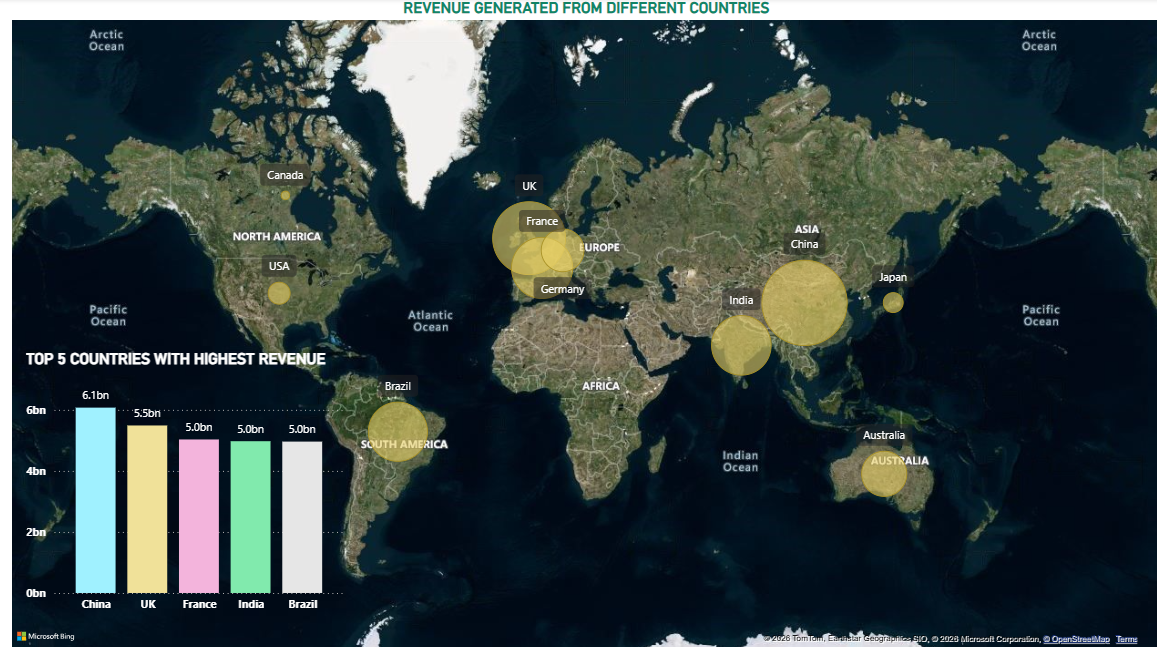

This screenshot's page, from the dashboard's own definition file:
{"tool":"powerbi","page":{"name":"Page 3","canvas":[1280,720],"ordinal":2},"visuals":[{"type":"map","title":"REVENUE GENERATED FROM DIFFERENT COUNTRIES","fields":{"Category":["bmwsales_global.country"],"Size":["Sum(bmwsales_global.Revenue_usd)"]},"box":[9.7,0,1270.4,720.2],"z":0},{"type":"columnChart","title":"TOP 5 COUNTRIES WITH HIGHEST REVENUE","fields":{"Category":["bmwsales_global.country"],"Y":["Sum(bmwsales_global.Revenue_usd)"]},"box":[24.7,385.6,359.5,297.8],"z":1000}]}

Visuals, with their boxes in screenshot pixels (x1, y1, x2, y2), scaled from the page's 1280x720 canvas onto the 1157x647 screenshot:
"REVENUE GENERATED FROM DIFFERENT COUNTRIES" map: {"x1": 9, "y1": 0, "x2": 1156, "y2": 646}
"TOP 5 COUNTRIES WITH HIGHEST REVENUE" columnChart: {"x1": 22, "y1": 347, "x2": 347, "y2": 614}
